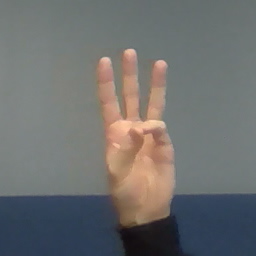W: (93, 47, 187, 211)
